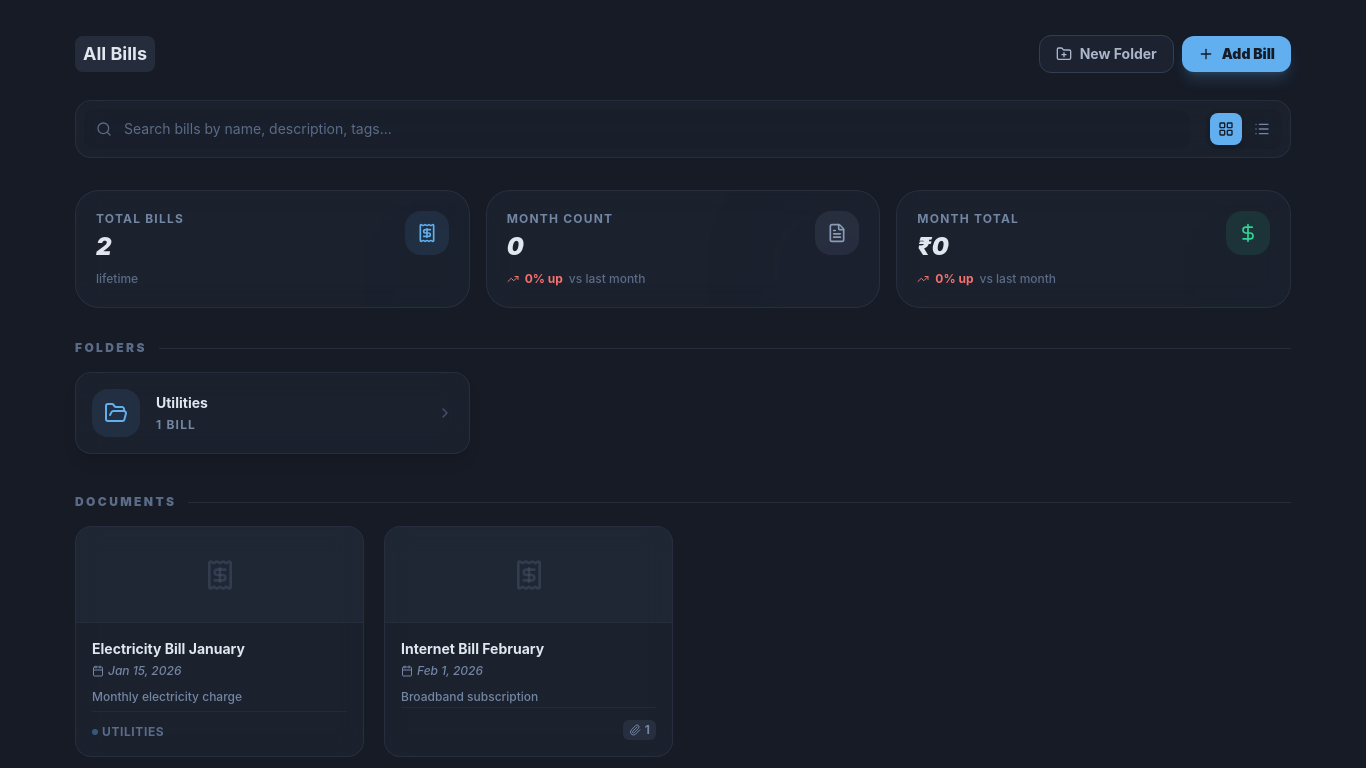
Test: BillsAdminView › opens add bill modal when Add Bill button is clicked
The image size is (1366, 768).
Expected: the heading "Electricity Bill January" is shown, [92,640,245,657]
Click the button "Add Bill" at coordinates (1236, 54), box [1182,36,1291,72]
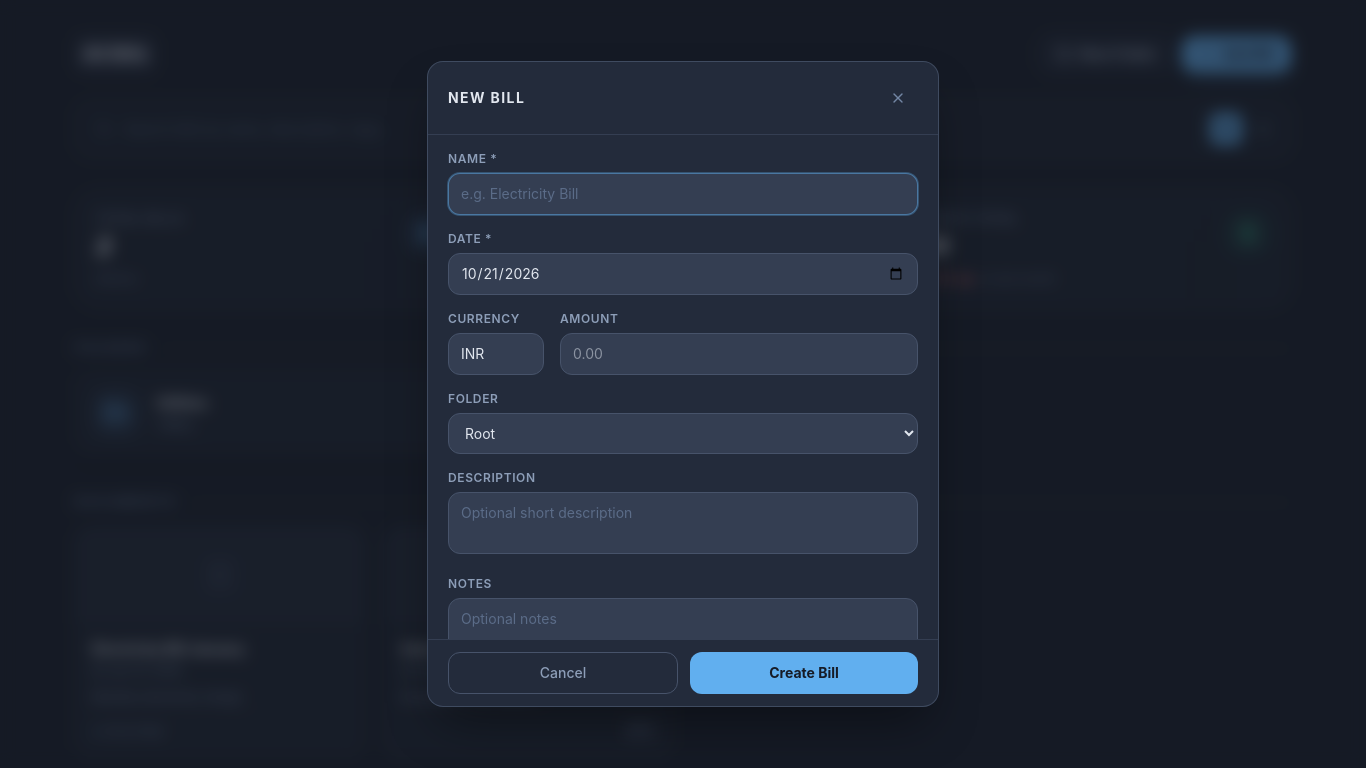
Now the heading "New Bill" is shown, box [448,88,525,108]
